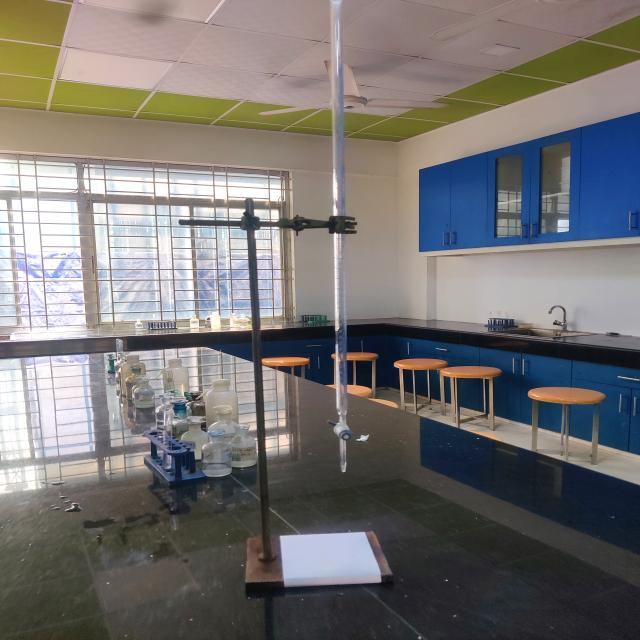Burette_Stands: (152, 184, 424, 616)
